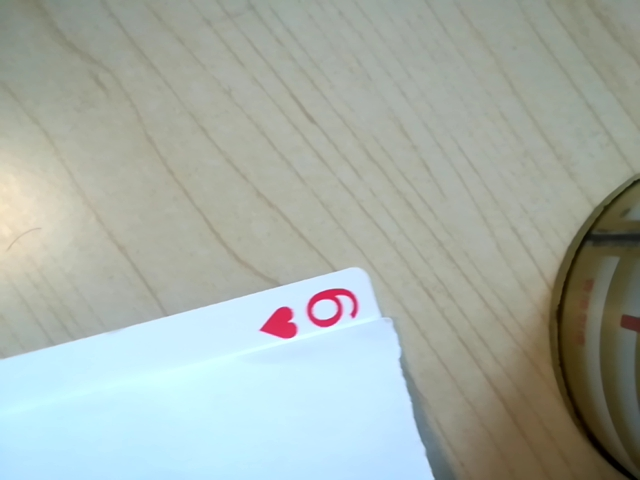hx 6: (260, 281, 371, 345)
